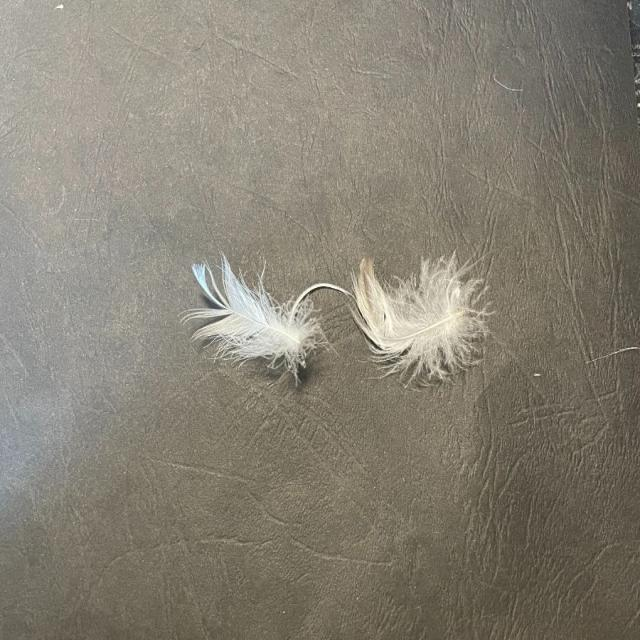feather: (354, 246, 496, 392), (180, 256, 328, 384)
